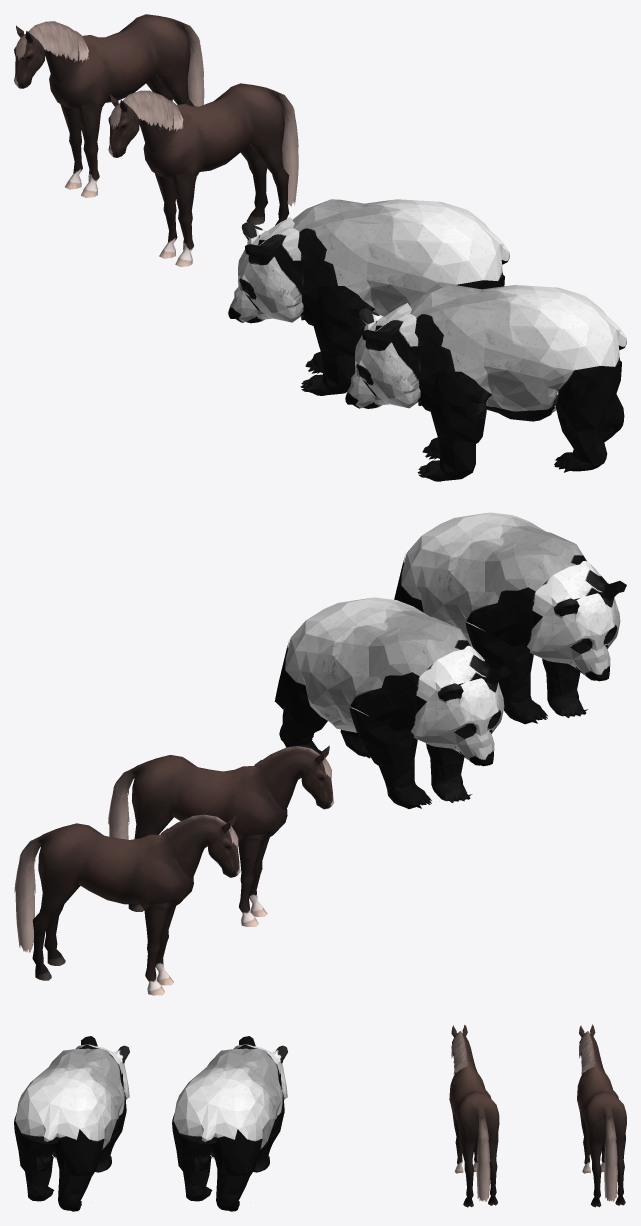
The model's file is AnimalesCarrito.obj.
The picture shows the model from 3 angles, top to bottom: view 1: azimuth 30°, elevation 25°; view 2: azimuth 150°, elevation 25°; view 3: azimuth 270°, elevation 25°; orthographic projection. The views are drawn at different scales.
Parts seen in each view (by area): view 1: panda.002, panda.1, Horse_body1.005, Horse_body1.012; view 2: panda.1, panda.002, Horse_body1.012, Horse_body1.005; view 3: panda.1, panda.002, Horse_body1.005, Horse_body1.012.
Boxes of the visible parts, x1=… form: panda.002: x1=345, y1=285, x2=626, y2=481; panda.1: x1=228, y1=199, x2=509, y2=395; Horse_body1.005: x1=108, y1=83, x2=298, y2=267; Horse_body1.012: x1=14, y1=14, x2=204, y2=197; panda.1: x1=274, y1=597, x2=510, y2=808; panda.002: x1=394, y1=512, x2=626, y2=724; Horse_body1.012: x1=14, y1=814, x2=240, y2=995; Horse_body1.005: x1=108, y1=745, x2=334, y2=926; panda.1: x1=172, y1=1036, x2=287, y2=1211; panda.002: x1=14, y1=1036, x2=129, y2=1211; Horse_body1.005: x1=449, y1=1025, x2=499, y2=1207; Horse_body1.012: x1=577, y1=1024, x2=626, y2=1207.
Size of the model in its own units: 13.75 by 9.94 by 44.41.
